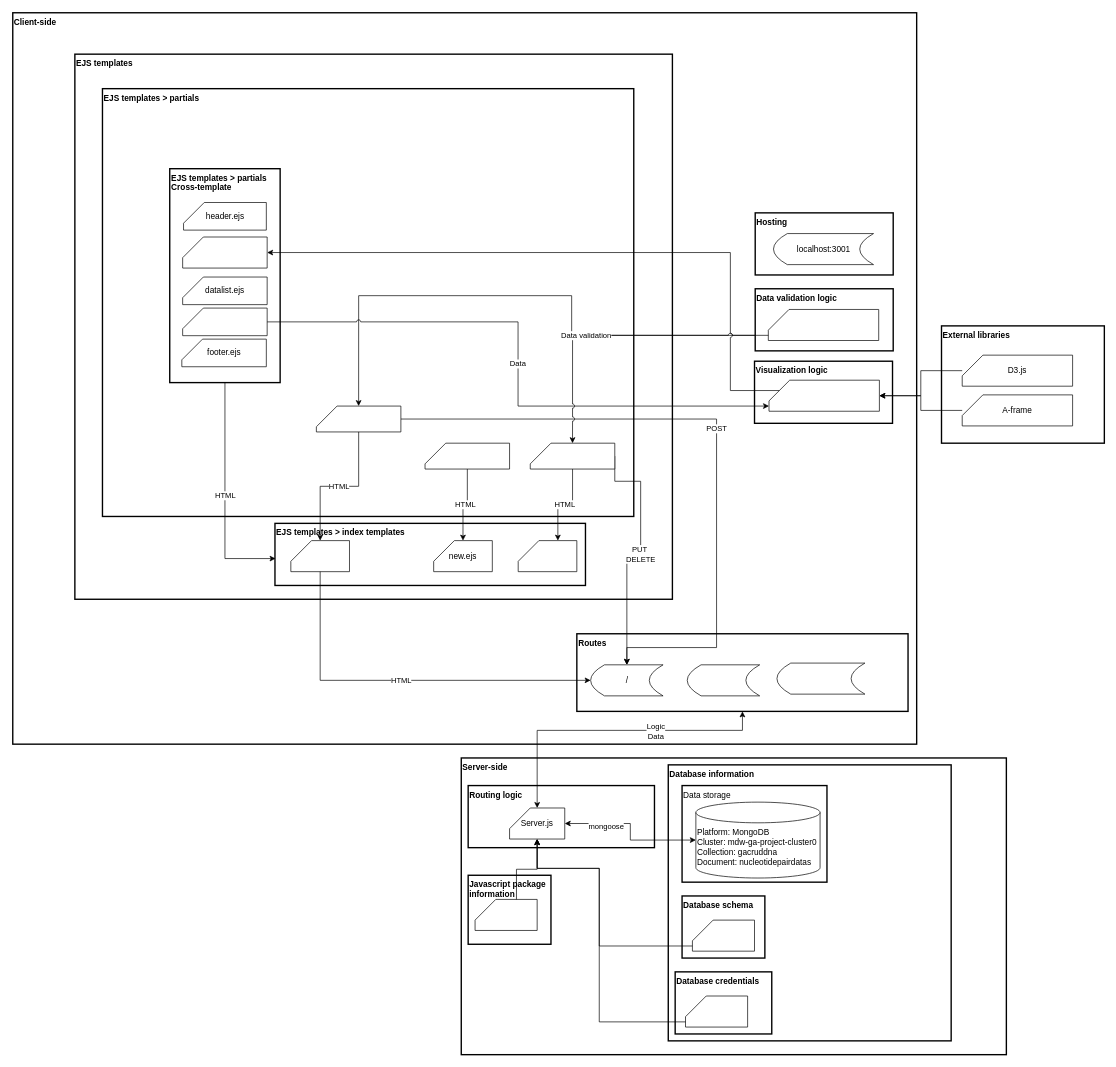
Image size: 1116x1067. Some labels were removed from this diagram. Here are the shapes that lost their labels. From the top down, the centre of each, then its label:
At [224,252]: "lollipop3dchart.ejs".
At [224,321]: "dataarray.ejs".
At [823,325]: "frontendbehavior.js".
At [823,395]: "lollipop3dchart.js".
At [358,418]: "addform.ejs".
At [467,455]: "add.ejs".
At [572,455]: "updatedelete.ejs".
At [319,556]: "home.ejs".
At [547,556]: "show.ejs".
At [723,680]: "/new".
At [820,678]: "/:dataPointId".
At [505,914]: "package.json".
At [723,935]: "nucleotide.js".
At [716,1011]: ".env".
